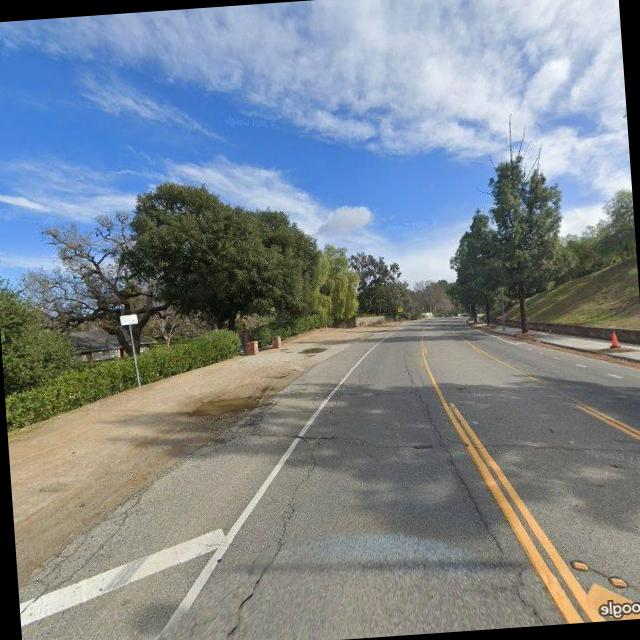crack: (240, 393, 640, 481), (185, 439, 342, 640), (405, 352, 527, 610)
